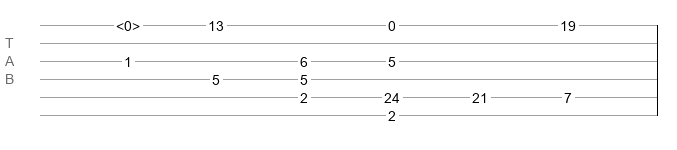0: (388, 18, 396, 28)
1: (124, 54, 132, 64)
13: (208, 18, 224, 28)
19: (560, 18, 576, 28)
2: (300, 90, 308, 100), (388, 108, 396, 118)
21: (472, 90, 488, 100)
24: (384, 90, 400, 100)
5: (212, 72, 220, 82), (300, 72, 308, 82), (388, 54, 396, 64)
6: (300, 54, 308, 64)
7: (564, 90, 572, 100)
harmonic: (116, 18, 140, 28)
